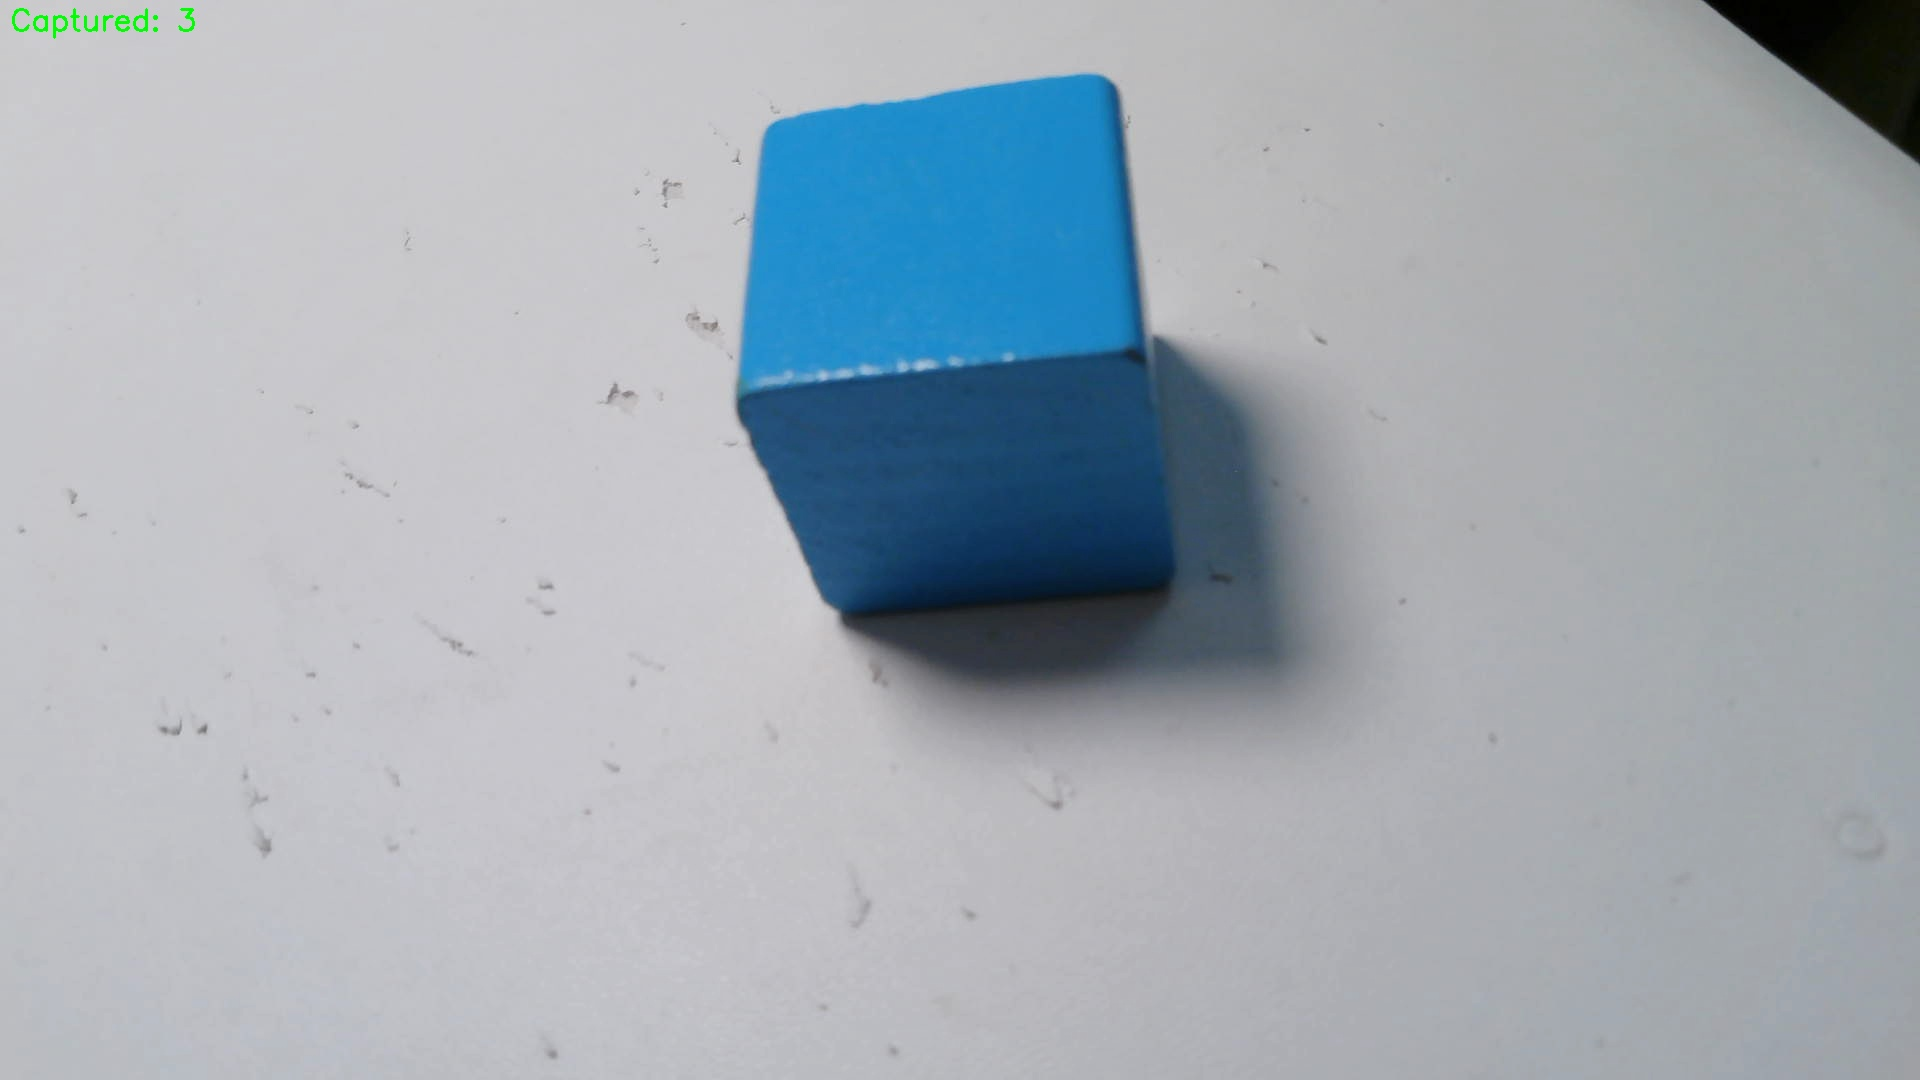blue: (741, 70, 1180, 618)
